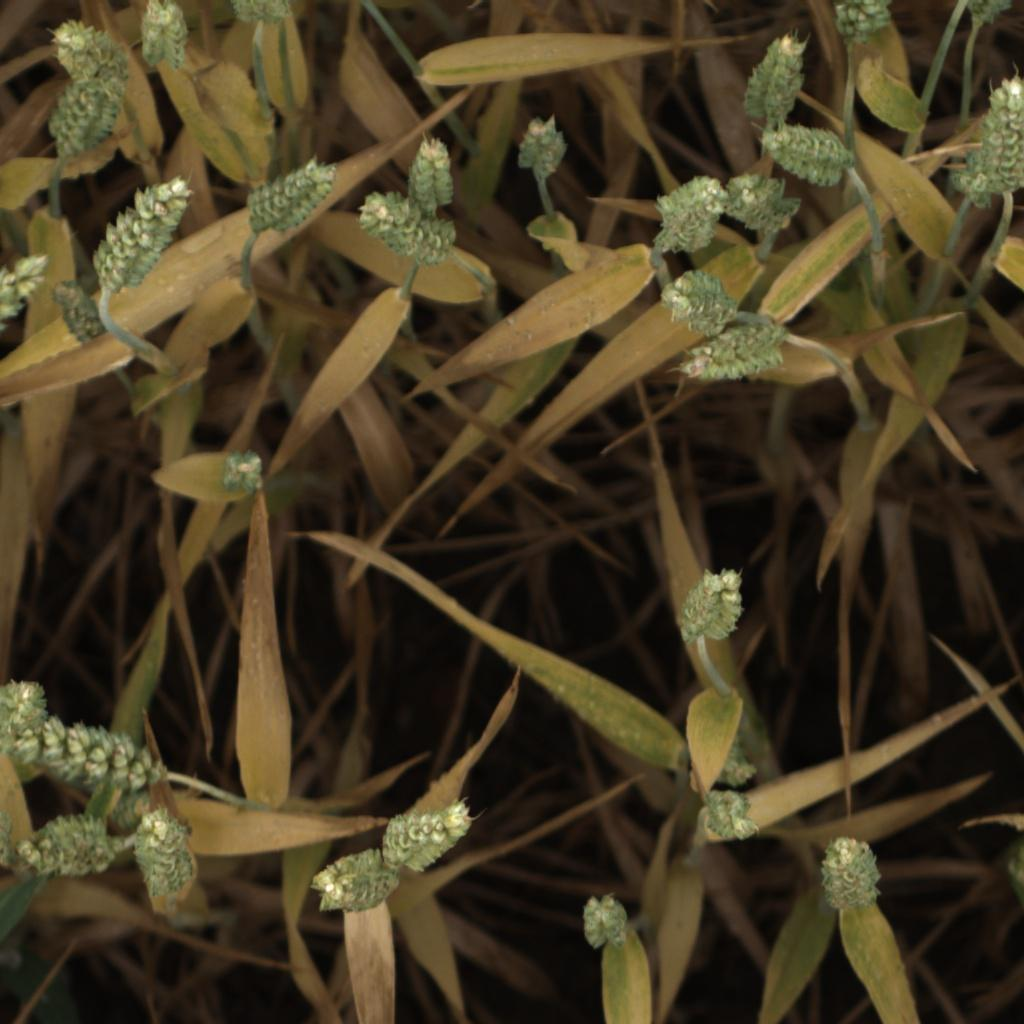0-0: (89, 167, 197, 301), (0, 712, 169, 794), (239, 153, 343, 240), (747, 112, 859, 192), (356, 187, 462, 269), (128, 804, 201, 921), (17, 807, 127, 884), (379, 796, 475, 878), (43, 73, 128, 161), (677, 319, 788, 386), (306, 845, 406, 917), (678, 560, 756, 649), (647, 174, 730, 256), (0, 239, 50, 375), (811, 834, 890, 914), (43, 12, 128, 83), (741, 30, 809, 115), (721, 172, 804, 240), (978, 73, 1024, 191), (654, 269, 739, 329), (44, 273, 108, 352), (404, 131, 462, 217), (695, 782, 763, 852), (135, 1, 195, 74), (513, 114, 572, 183), (575, 888, 636, 953), (946, 148, 1002, 212), (829, 0, 896, 50), (218, 440, 270, 501), (710, 732, 761, 790), (0, 677, 47, 735), (100, 793, 153, 833), (229, 0, 295, 28), (1001, 837, 1024, 909), (965, 1, 1015, 31), (0, 808, 16, 875)
